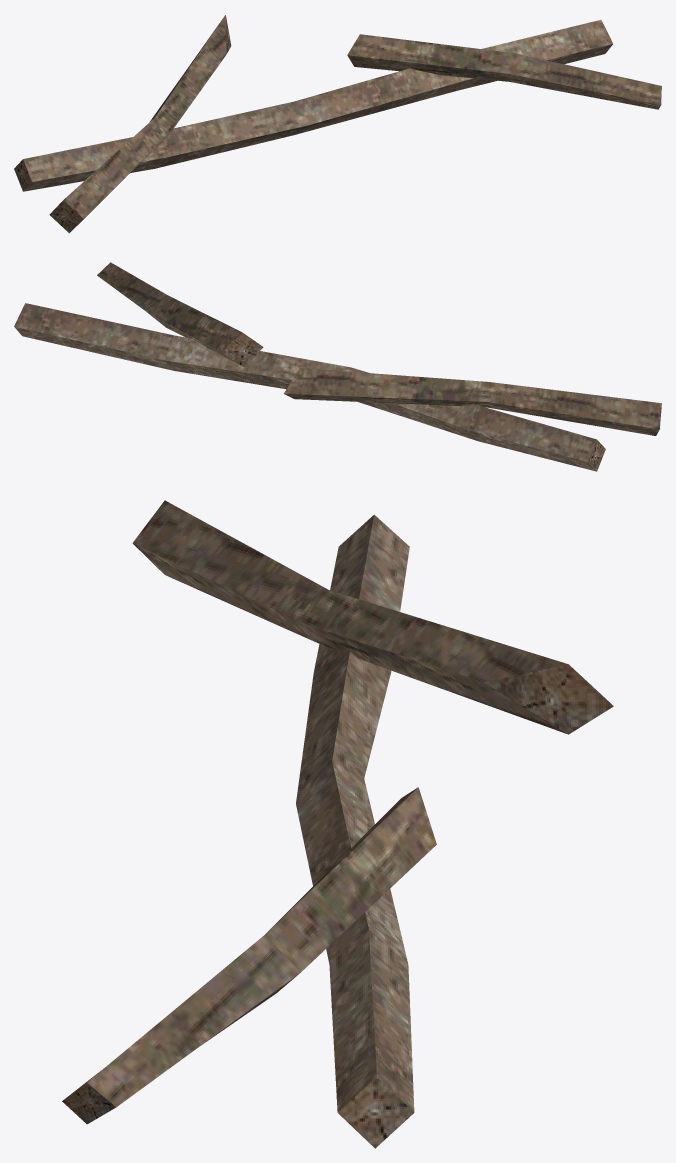
The model's file is lf_wooden_fence_pile.glb.
3 renders of one model, top to bottom at view 1: azimuth 30°, elevation 25°; view 2: azimuth 150°, elevation 25°; view 3: azimuth 270°, elevation 25°, orthographic. The views are drawn at different scales.
Parts seen in each view (by area): view 1: wooden_fence_pile; view 2: wooden_fence_pile; view 3: wooden_fence_pile.
Part boxes in pixels (bbox=[...]): wooden_fence_pile: bbox=[14, 15, 661, 233]; wooden_fence_pile: bbox=[14, 262, 661, 471]; wooden_fence_pile: bbox=[62, 500, 613, 1148].
Bounding box in the file's own units: 2.06 × 0.2763 × 0.8313.
Materials: 1 (1 with a texture image).
